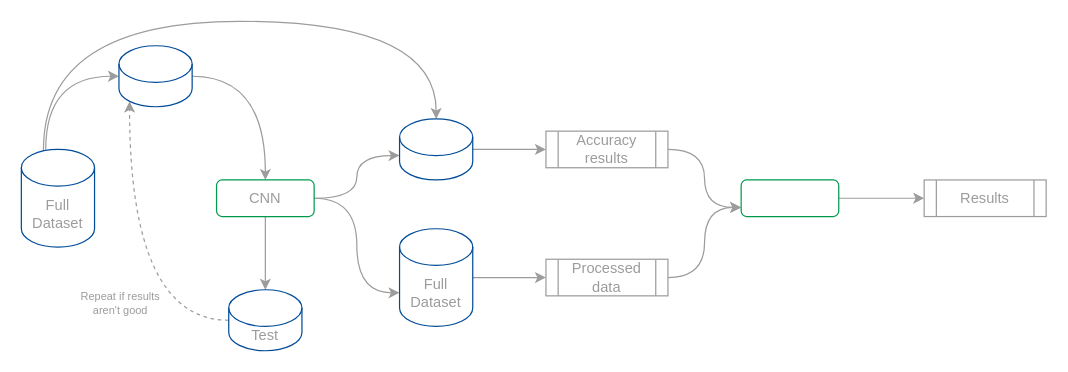
Some shapes in this 1068 by 372 pixel diagram are drawn without their labels. Here are the shapes that lost their labels. From the top down, the box of each, then its label:
(118, 45, 192, 107): Training
(398, 118, 473, 180): Valid
(740, 179, 839, 217): attendance model
